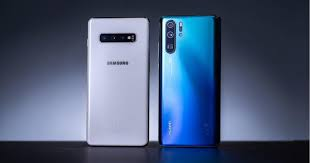huawei: (85, 14, 151, 148), (155, 12, 221, 146)
